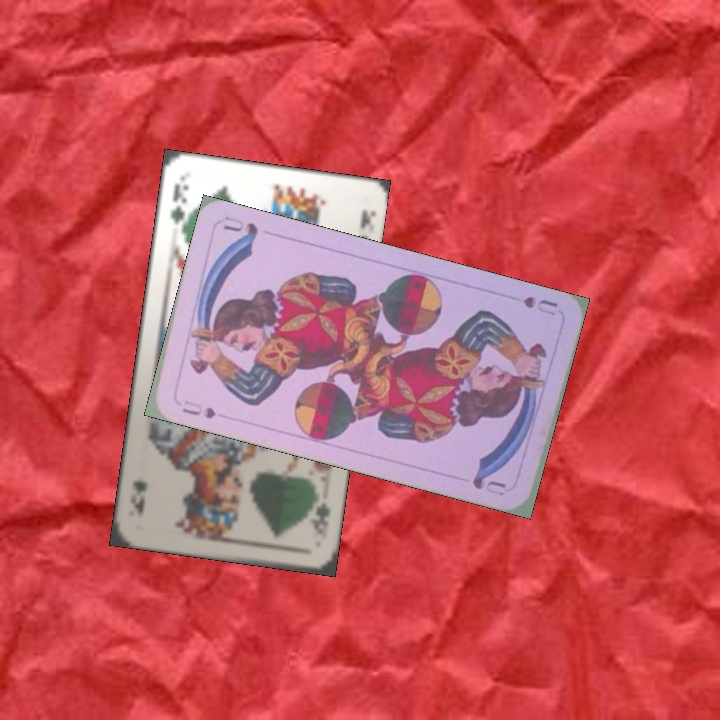GK: (165, 178, 191, 236), (307, 499, 334, 539)
SU: (519, 292, 561, 319), (178, 396, 218, 421)
